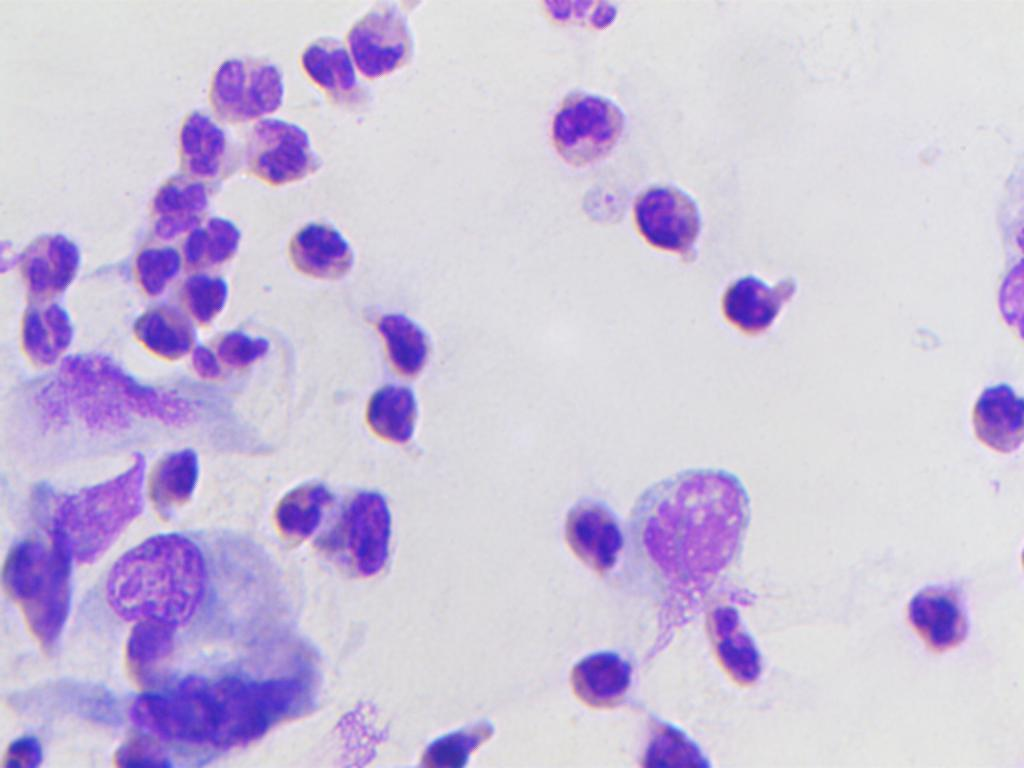artifact: (110, 662, 332, 768), (13, 359, 207, 437)
epithelial: (625, 459, 753, 609), (330, 471, 424, 579)
goblet_cell: (100, 521, 290, 624)
neutrophil: (121, 226, 239, 356), (0, 523, 86, 660), (548, 626, 642, 734), (543, 77, 638, 173), (614, 174, 722, 258), (187, 38, 295, 122), (375, 705, 514, 768), (897, 563, 979, 669), (713, 256, 809, 346), (0, 681, 92, 768), (358, 293, 442, 382), (349, 377, 436, 456), (143, 440, 220, 526), (527, 0, 652, 49), (277, 215, 363, 286), (347, 4, 423, 80), (561, 502, 628, 588), (239, 118, 320, 189), (959, 376, 1024, 460), (713, 608, 768, 702), (23, 226, 84, 304), (23, 300, 84, 378), (305, 26, 364, 106), (271, 476, 328, 558), (190, 325, 266, 385), (161, 104, 222, 176), (153, 168, 210, 244)
